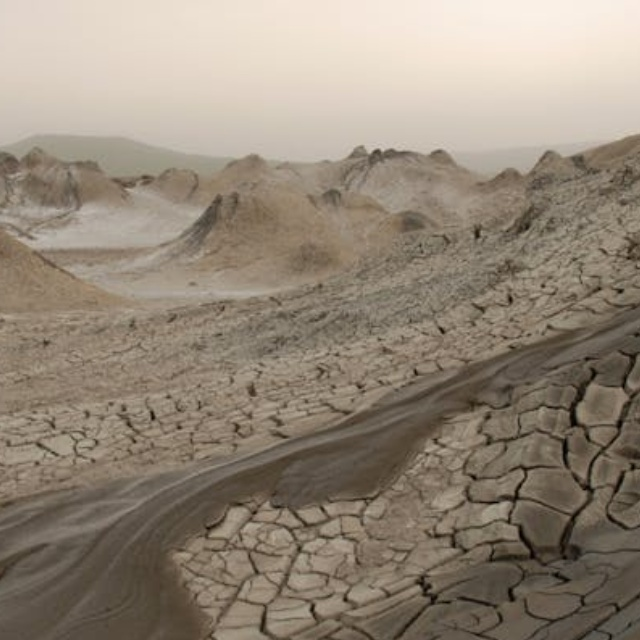网状裂隙: (46, 440, 640, 640)
